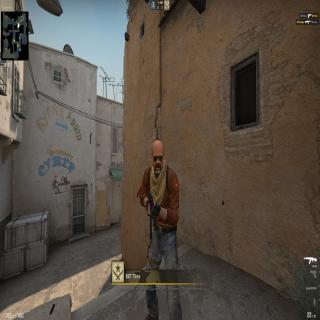T-Head: (149, 138, 166, 177)
